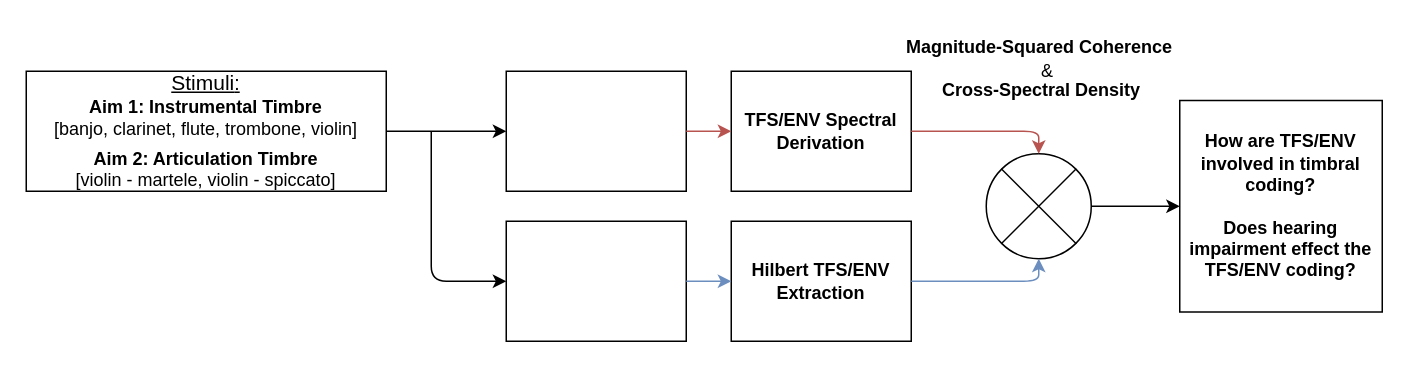
The diagram is 1409 pixels wide and 368 high, and some of its shapes have lost their labels. The centre of each missing label's shape, as x and y in pixels:
BEZ2018 Auditory Nerve Model: point (595, 130)
Gammatone Filterbank: point (595, 280)
